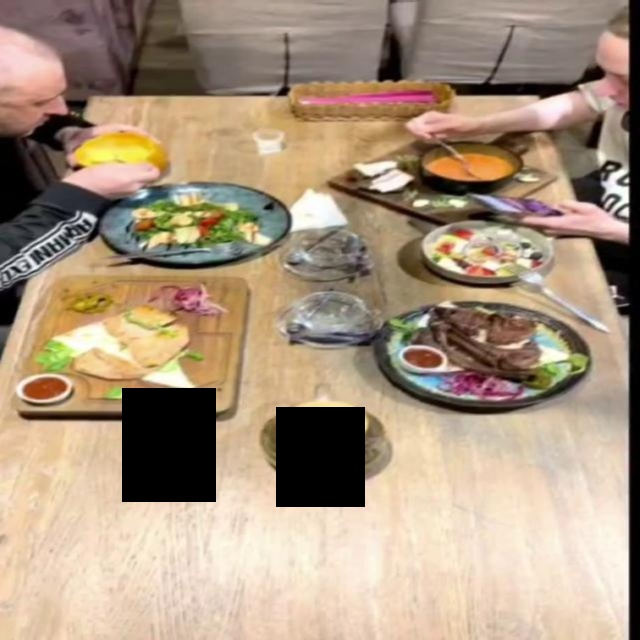meat: (13, 272, 254, 422), (372, 299, 593, 406)
salad: (96, 181, 290, 264), (420, 218, 556, 283)
soup: (327, 136, 562, 225), (74, 130, 167, 173)
tea: (248, 365, 413, 506)
